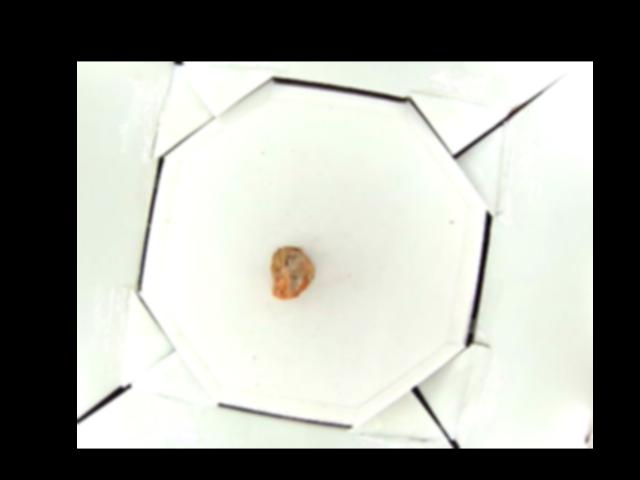Brisk: (269, 246, 314, 297)
